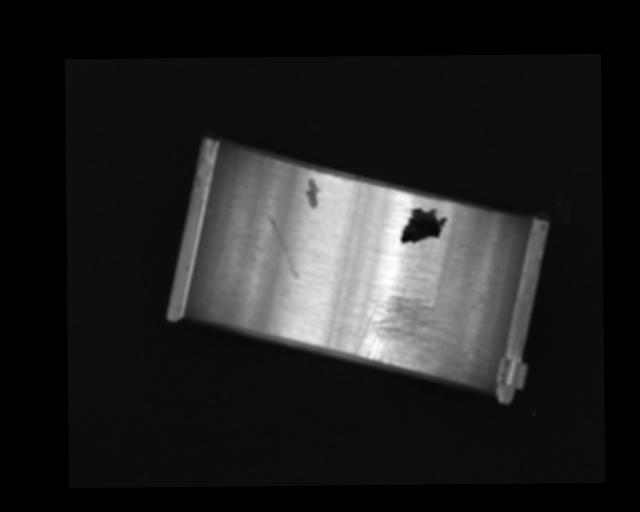blot: (399, 206, 448, 244)
bruise: (303, 177, 320, 209)
nick: (336, 182, 358, 296), (266, 211, 299, 281)
scratch: (352, 283, 466, 383)
